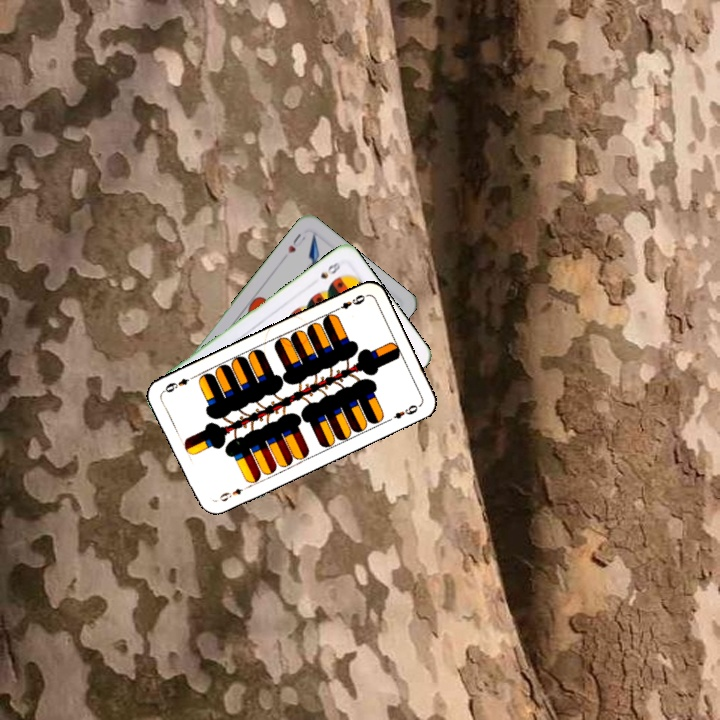E9: (331, 290, 369, 314), (215, 482, 251, 504)
HU: (284, 229, 308, 256)
S8: (316, 258, 343, 281)
